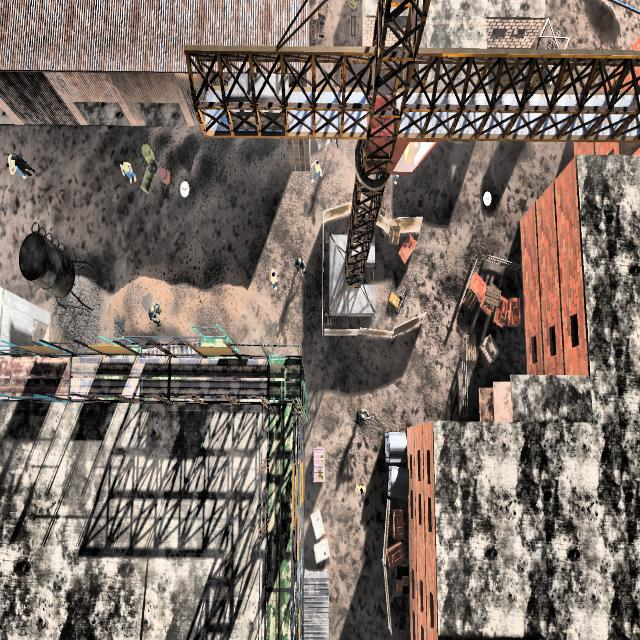bad: (144, 292, 165, 332), (352, 400, 372, 437), (16, 150, 37, 181), (293, 248, 308, 282)
good: (112, 151, 136, 193), (266, 252, 283, 303), (308, 149, 324, 194), (353, 464, 368, 511), (5, 142, 19, 189)
